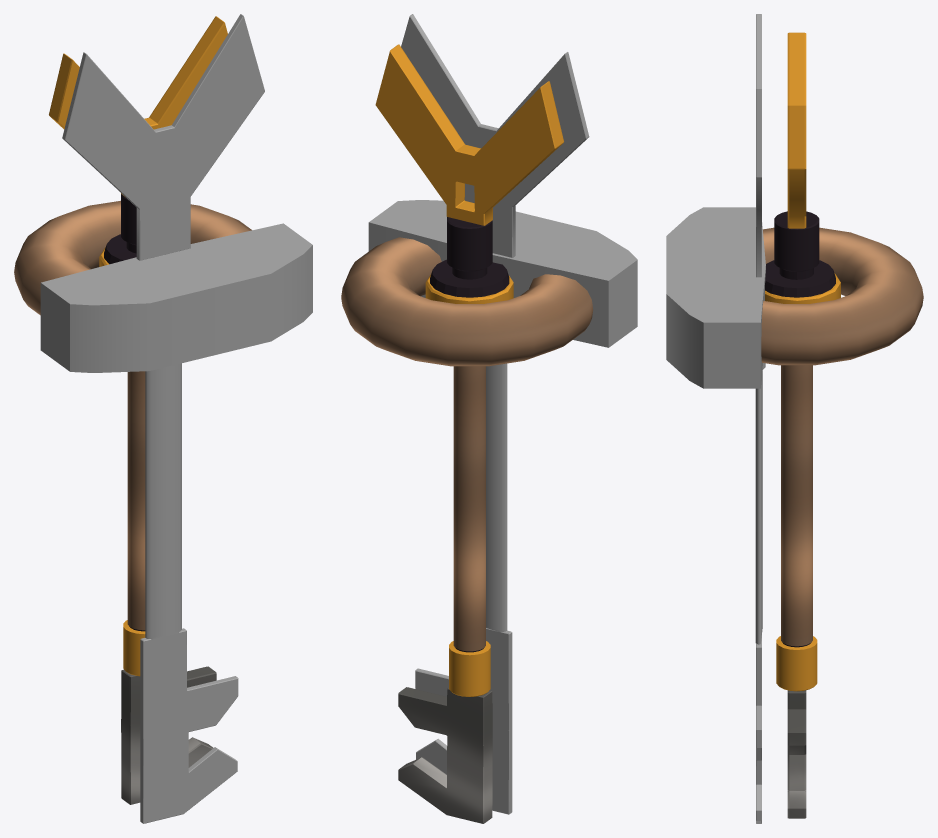
File: KeyTesla_Set.fbx
The picture shows the model from 3 angles, left to right: view 1: azimuth 30°, elevation 25°; view 2: azimuth 150°, elevation 25°; view 3: azimuth 270°, elevation 25°; orthographic projection. The views are drawn at different scales.
Visible parts, largest first — view 1: TeslaKey_Silhouette, TeslaKey_Mid, TeslaKey_Top, TeslaKey_End; view 2: TeslaKey_Silhouette, TeslaKey_Mid, TeslaKey_Top, TeslaKey_End; view 3: TeslaKey_Mid, TeslaKey_Silhouette, TeslaKey_Top, TeslaKey_End.
Part boxes in pixels (left/top/right/bottom): TeslaKey_Silhouette: left=40, top=14, right=312, bottom=823; TeslaKey_Mid: left=14, top=200, right=251, bottom=676; TeslaKey_Top: left=49, top=16, right=227, bottom=266; TeslaKey_End: left=121, top=666, right=216, bottom=804; TeslaKey_Silhouette: left=368, top=14, right=637, bottom=814; TeslaKey_Mid: left=341, top=237, right=593, bottom=696; TeslaKey_Top: left=375, top=44, right=563, bottom=303; TeslaKey_End: left=398, top=687, right=492, bottom=823; TeslaKey_Mid: left=761, top=227, right=923, bottom=691; TeslaKey_Silhouette: left=666, top=14, right=765, bottom=823; TeslaKey_Top: left=765, top=32, right=840, bottom=303; TeslaKey_End: left=787, top=690, right=806, bottom=818.
Bounding box in the file's own units: 53.51 × 165 × 50.42.
